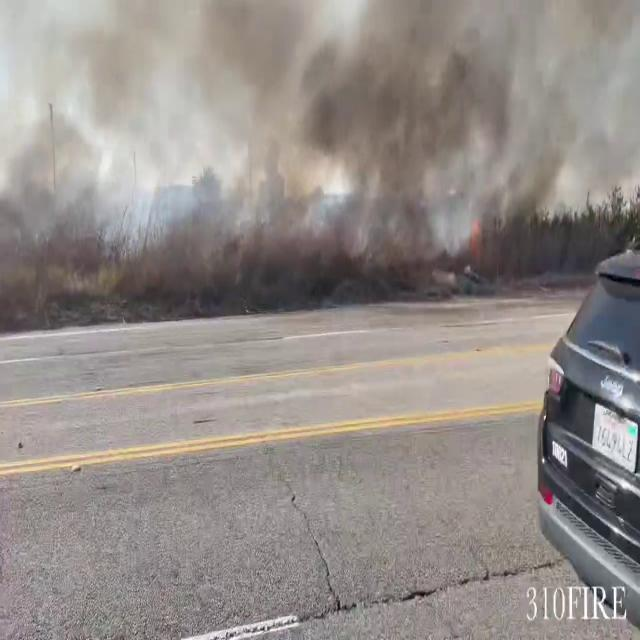Smoke: (1, 0, 636, 299)
